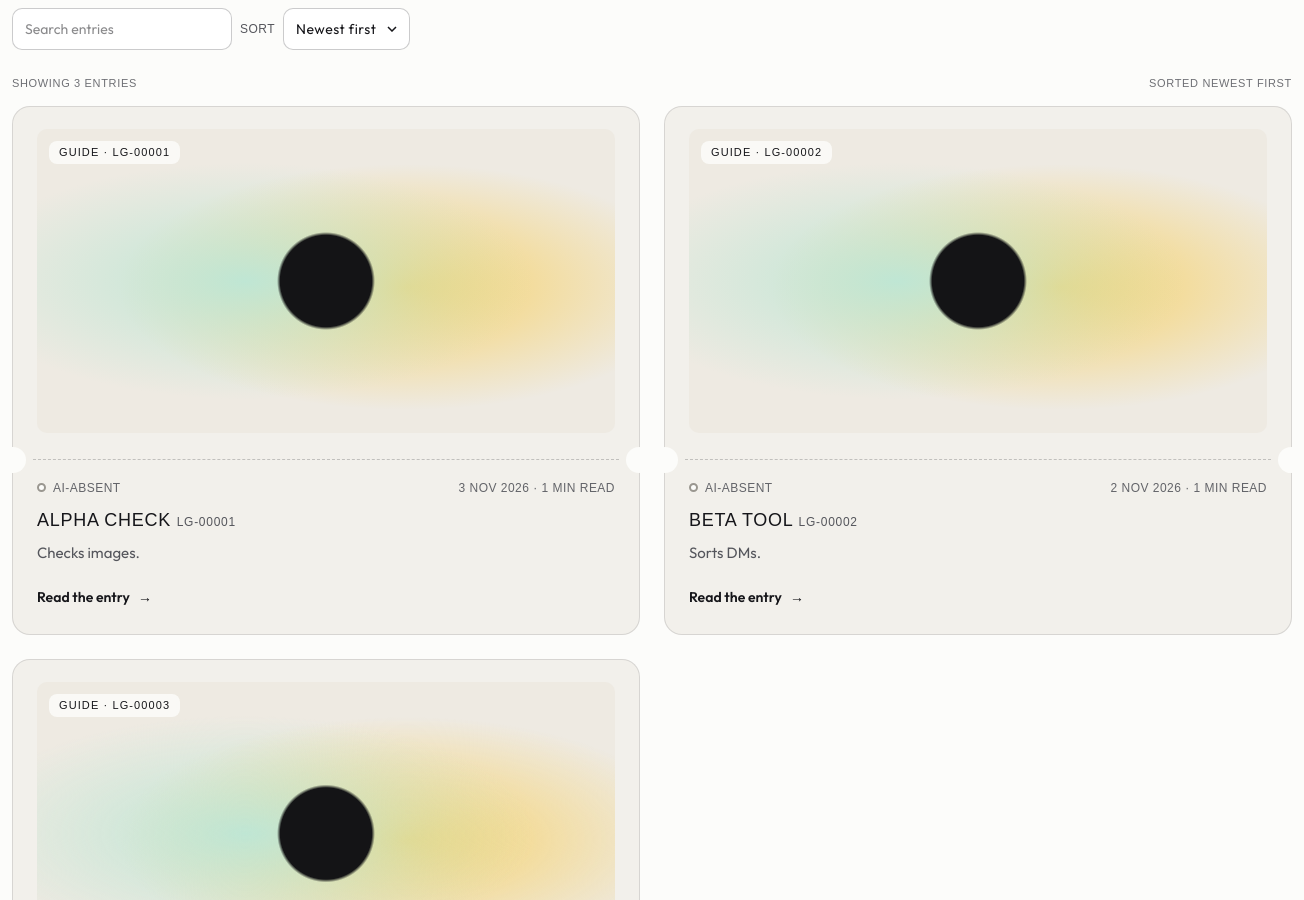
Test: LogFeed › sorts by the select and says how it is sorted
Select "Oldest first" in the dropdown labelled "Sort" at (346, 29), box top-left (283, 8), bottom-right (410, 50)
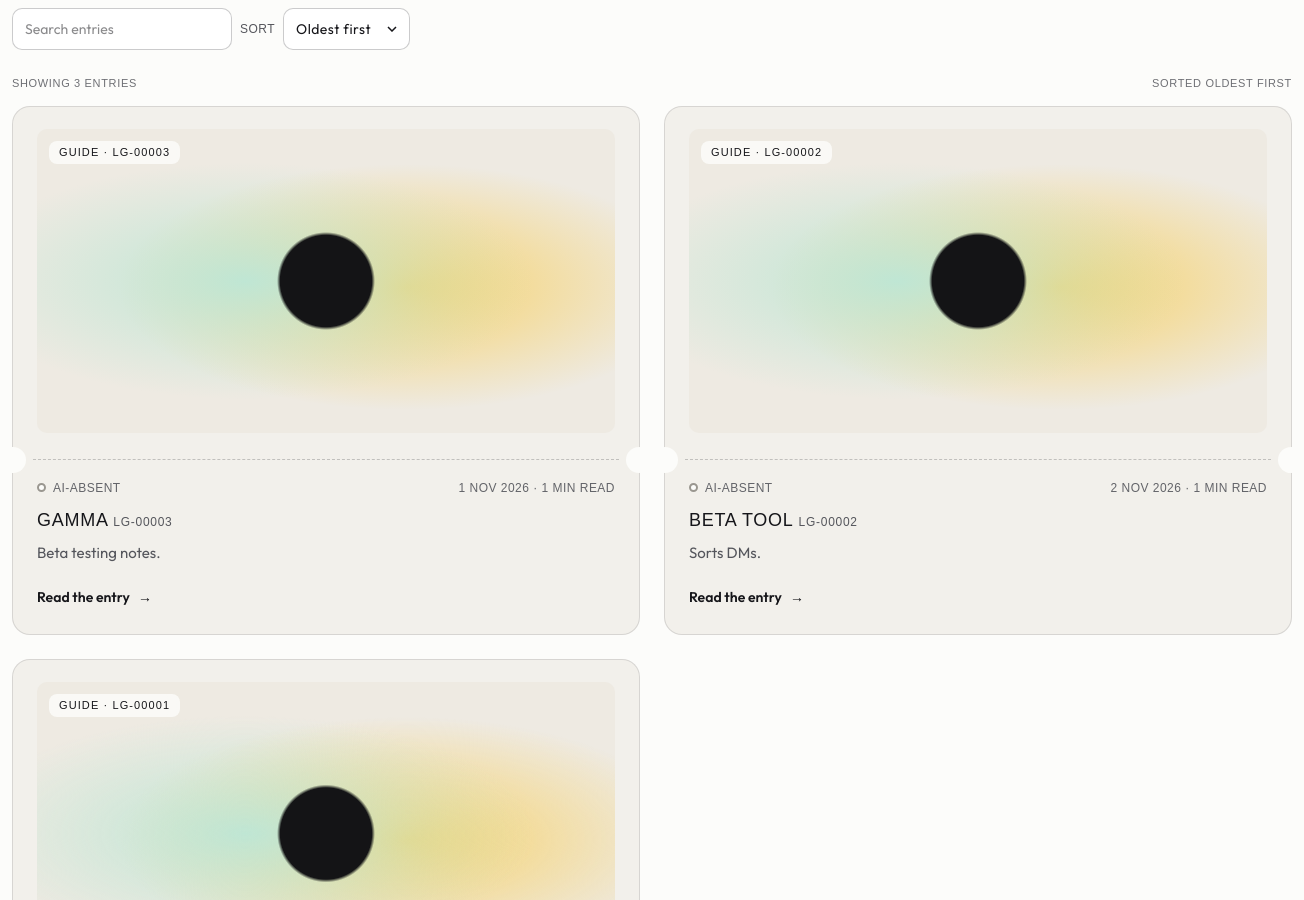
Expected: the text "Sorted oldest first" is shown, top-left (1152, 76), bottom-right (1292, 90)
Select "A to Z" in the dropdown labelled "Sort" at (346, 29), box top-left (283, 8), bottom-right (410, 50)
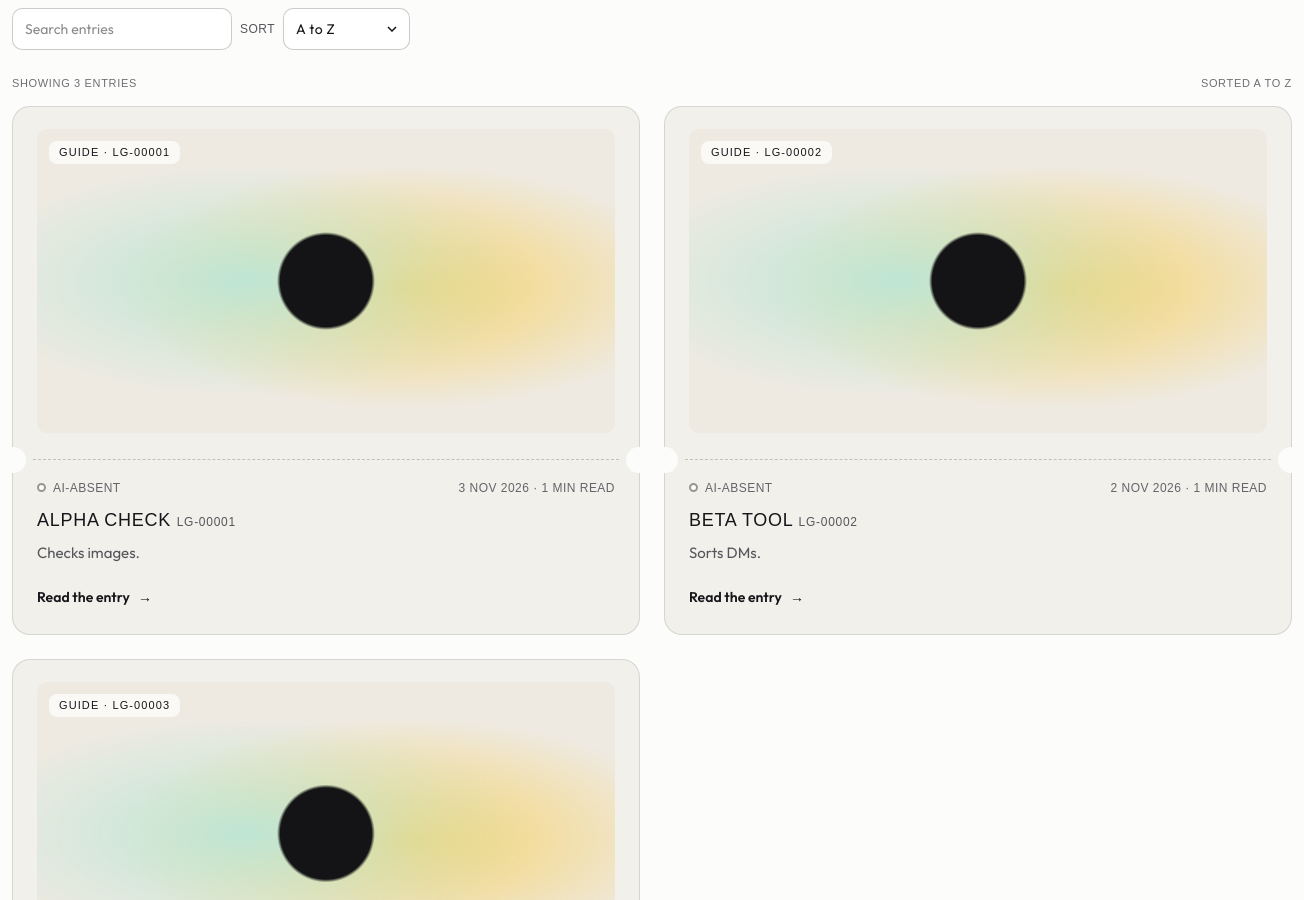
Expected: the text "Sorted A to Z" is shown, top-left (1201, 76), bottom-right (1292, 90)
